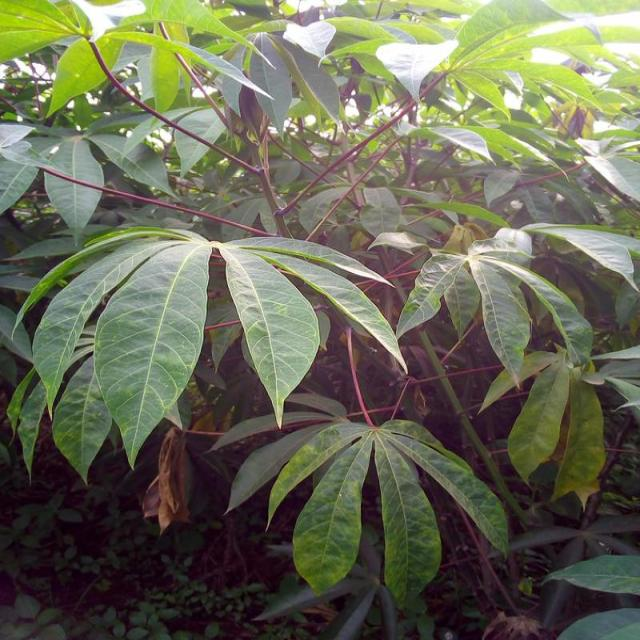cassava leaf: (92, 237, 210, 469), (216, 241, 321, 430)
